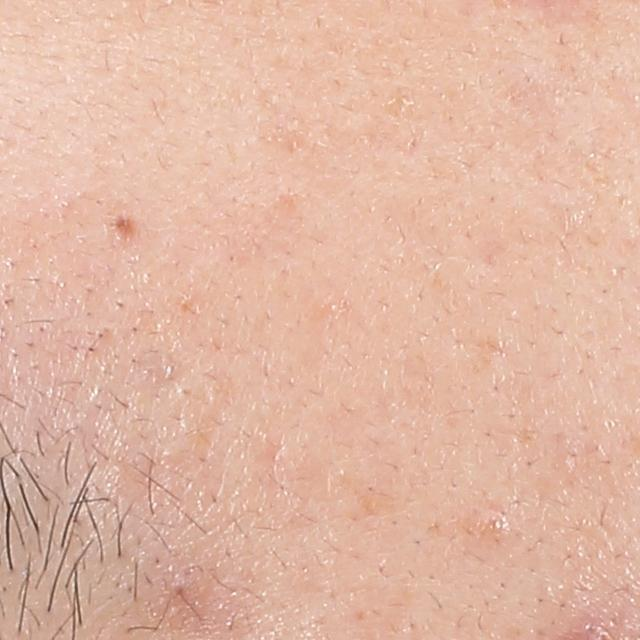nevus: (118, 213, 134, 241)
